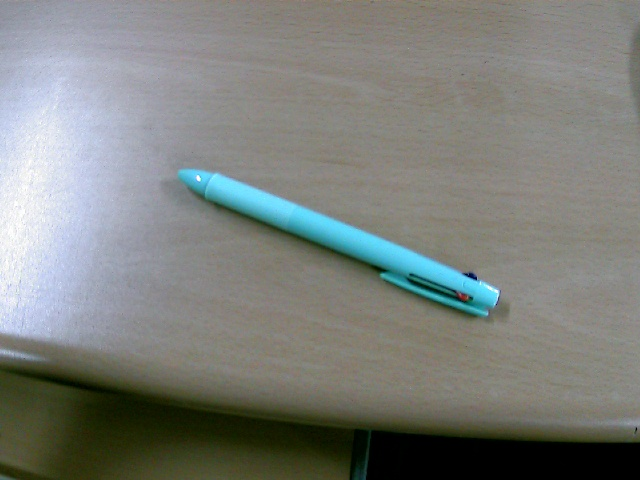pen: (175, 169, 497, 321)
